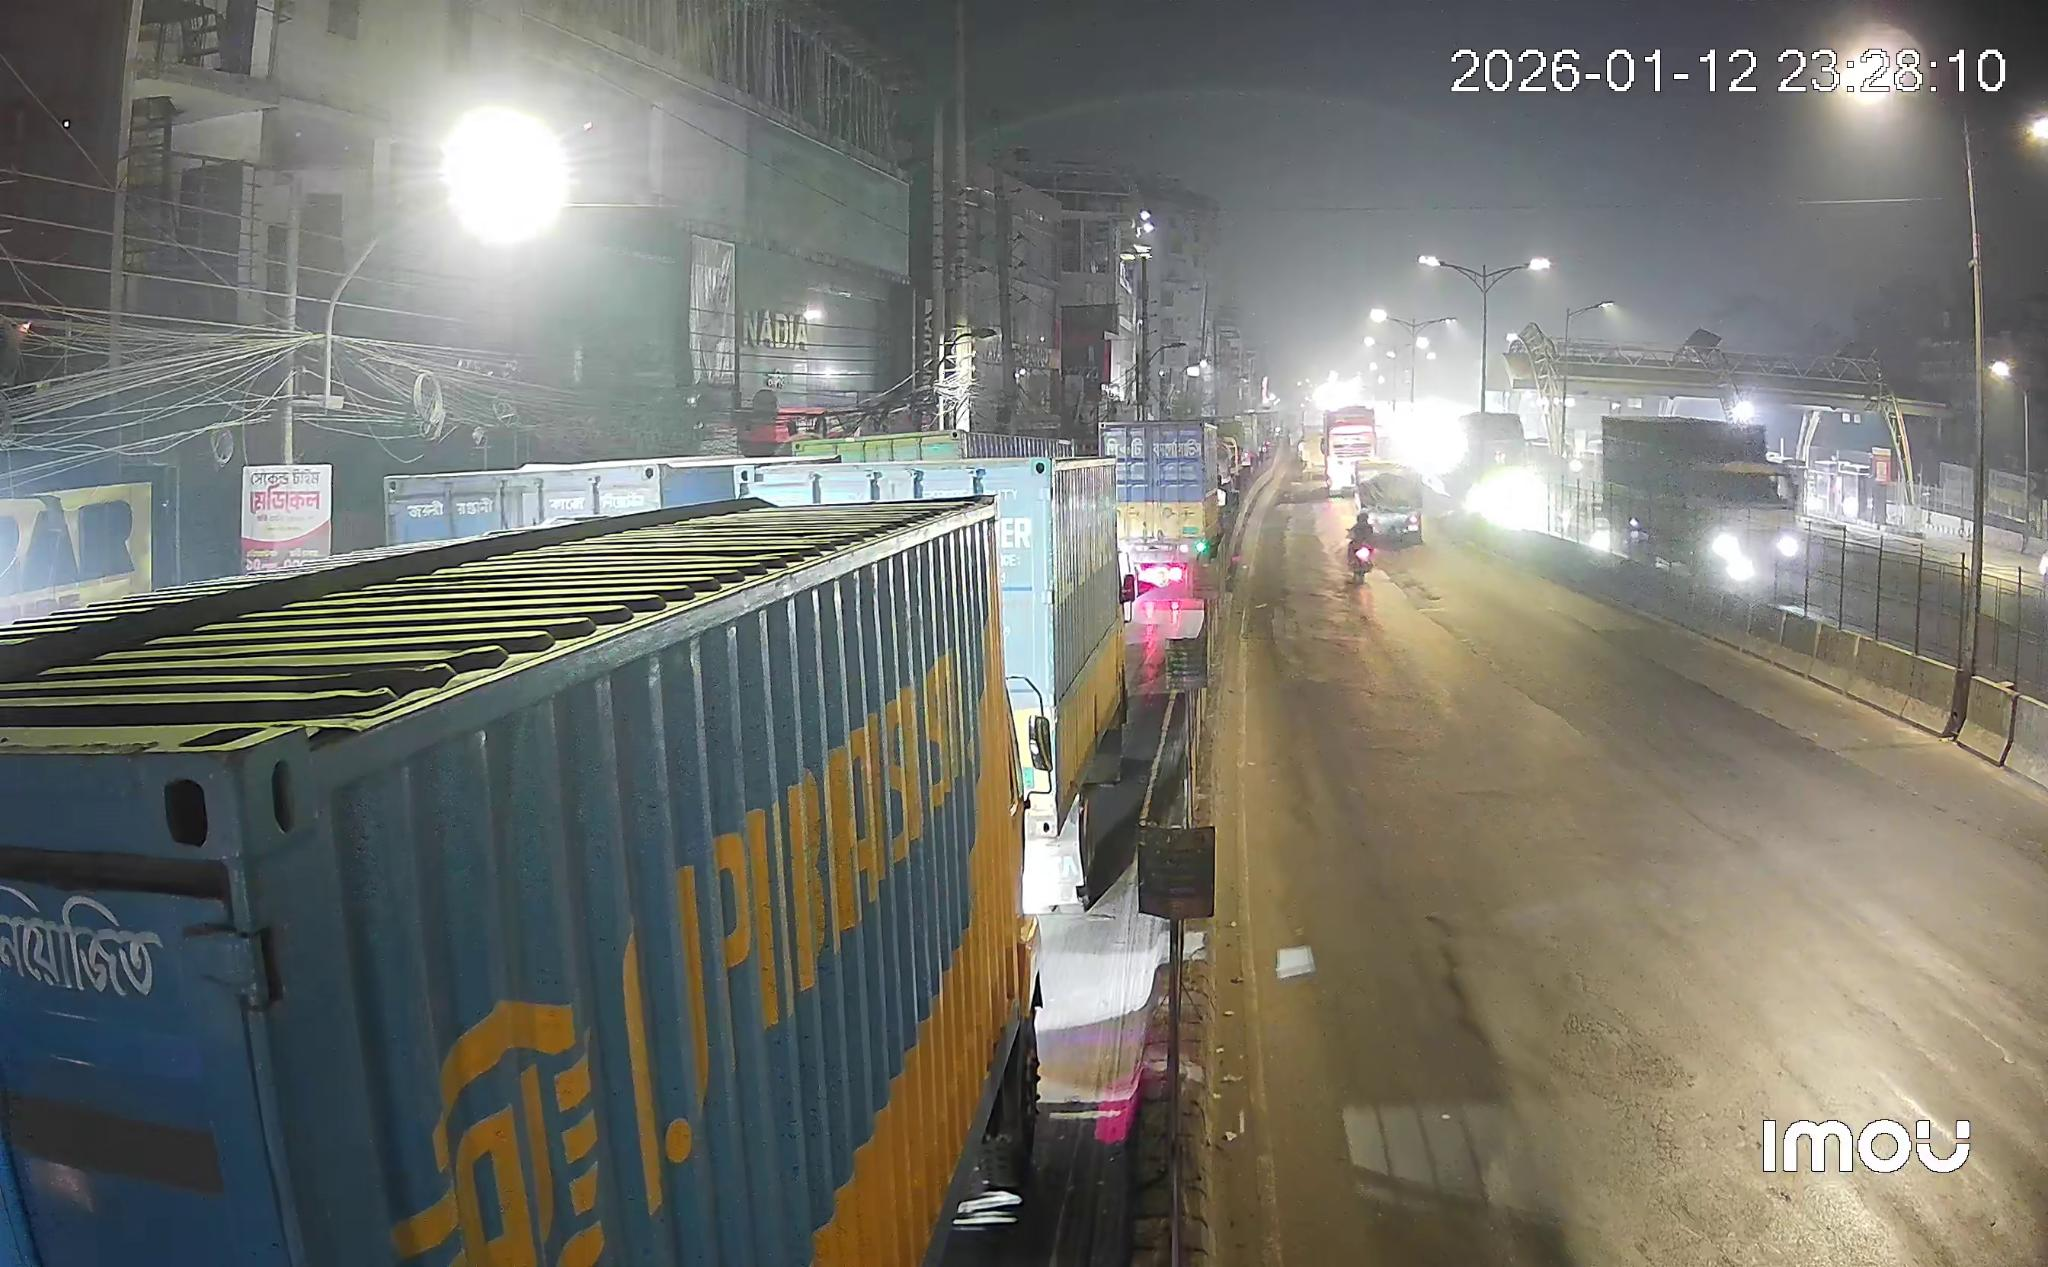Motorcycle: (1346, 511, 1378, 582)
Truck: (0, 495, 1037, 1267), (753, 456, 1137, 913), (1596, 416, 1807, 585), (1100, 418, 1221, 598), (1355, 464, 1423, 547)
